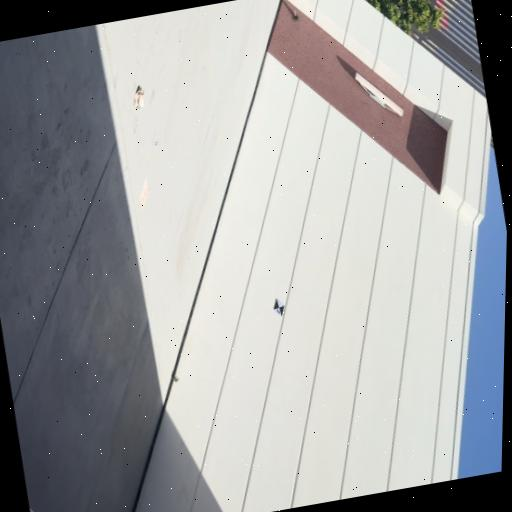target7: (273, 297, 284, 317)
